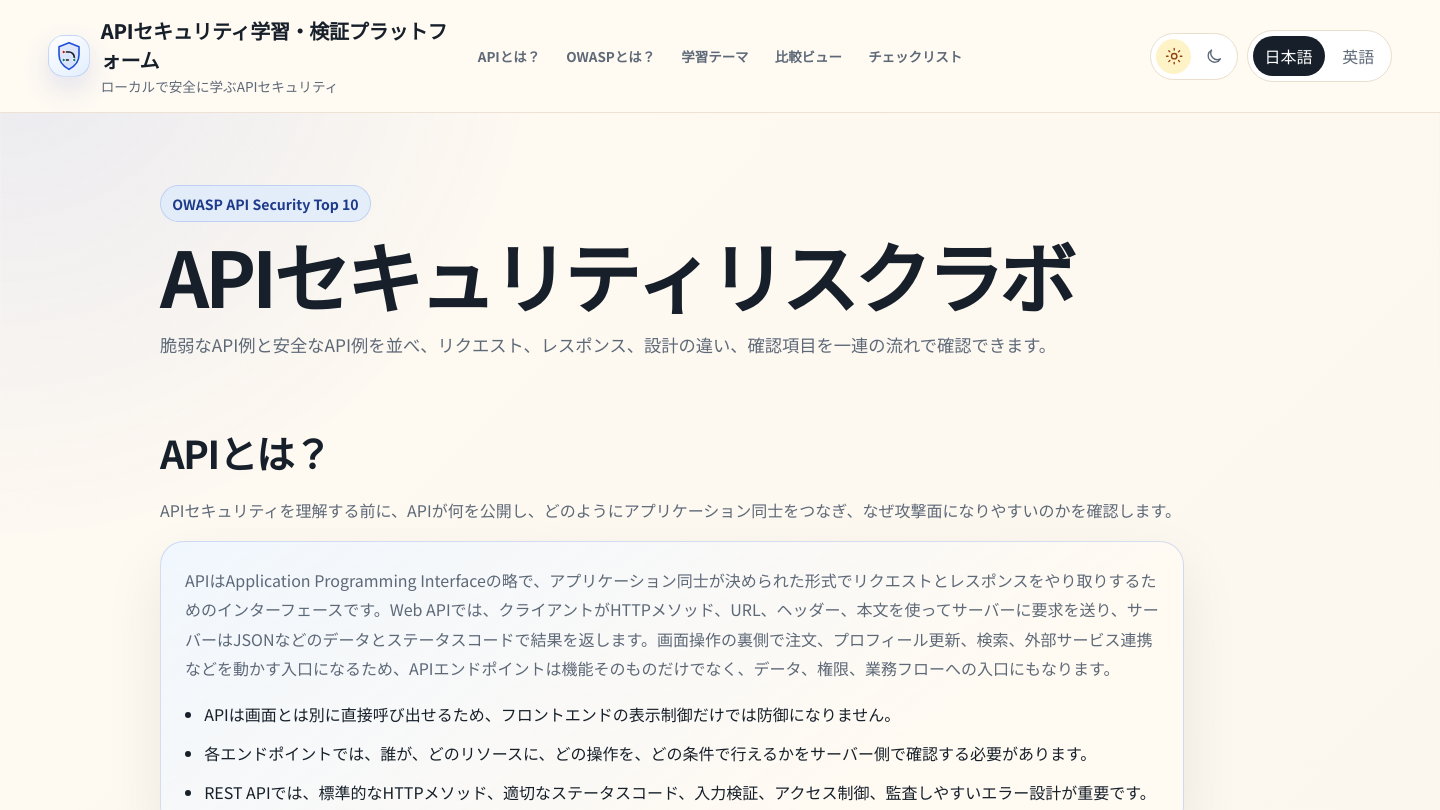
Test: HomePage public showcase › switches the public action and notice completely to English
Click the button "英語" at point(1358, 56), box [1330, 36, 1386, 76]
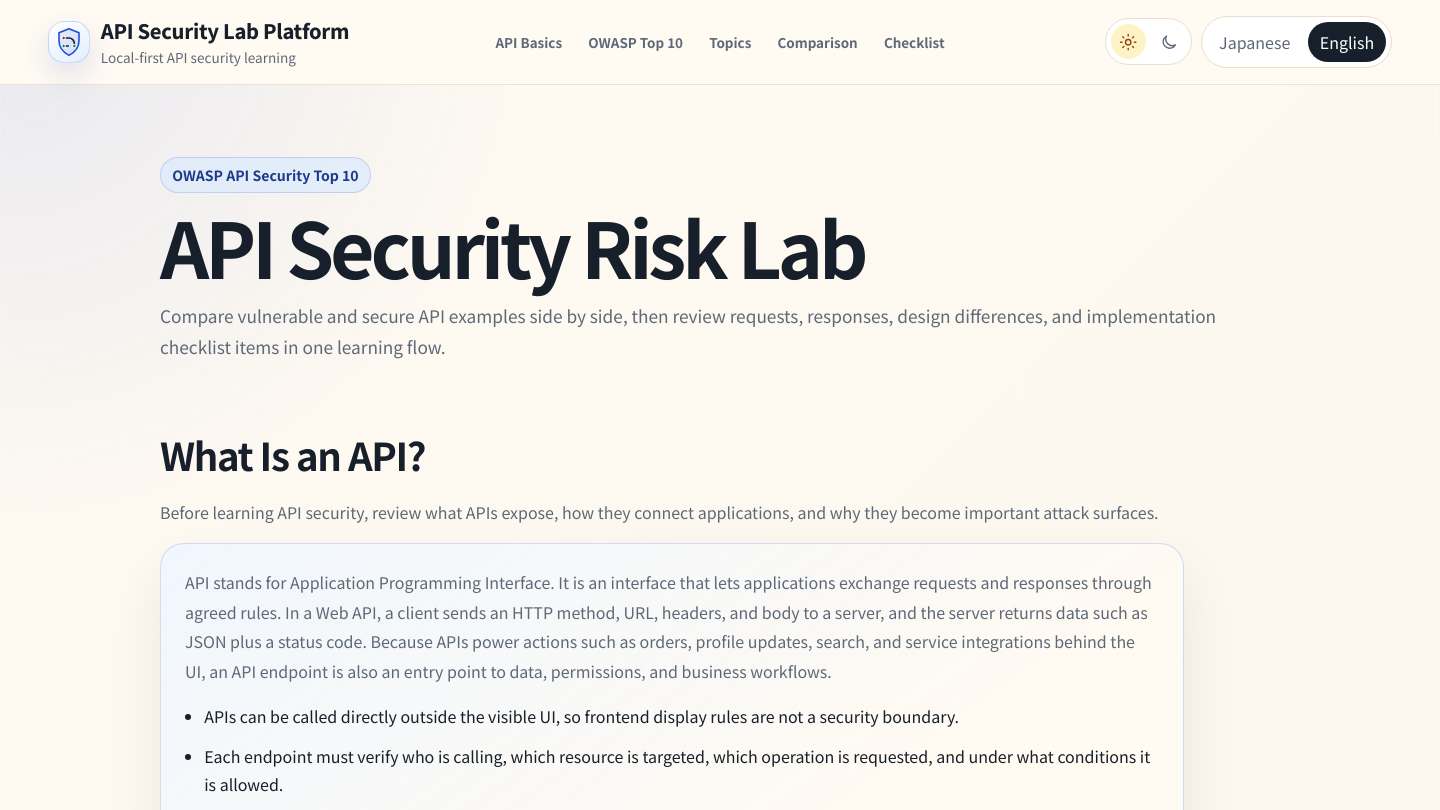
Result: the text "API Security Lab Platform" is shown at [101, 16, 349, 45]
